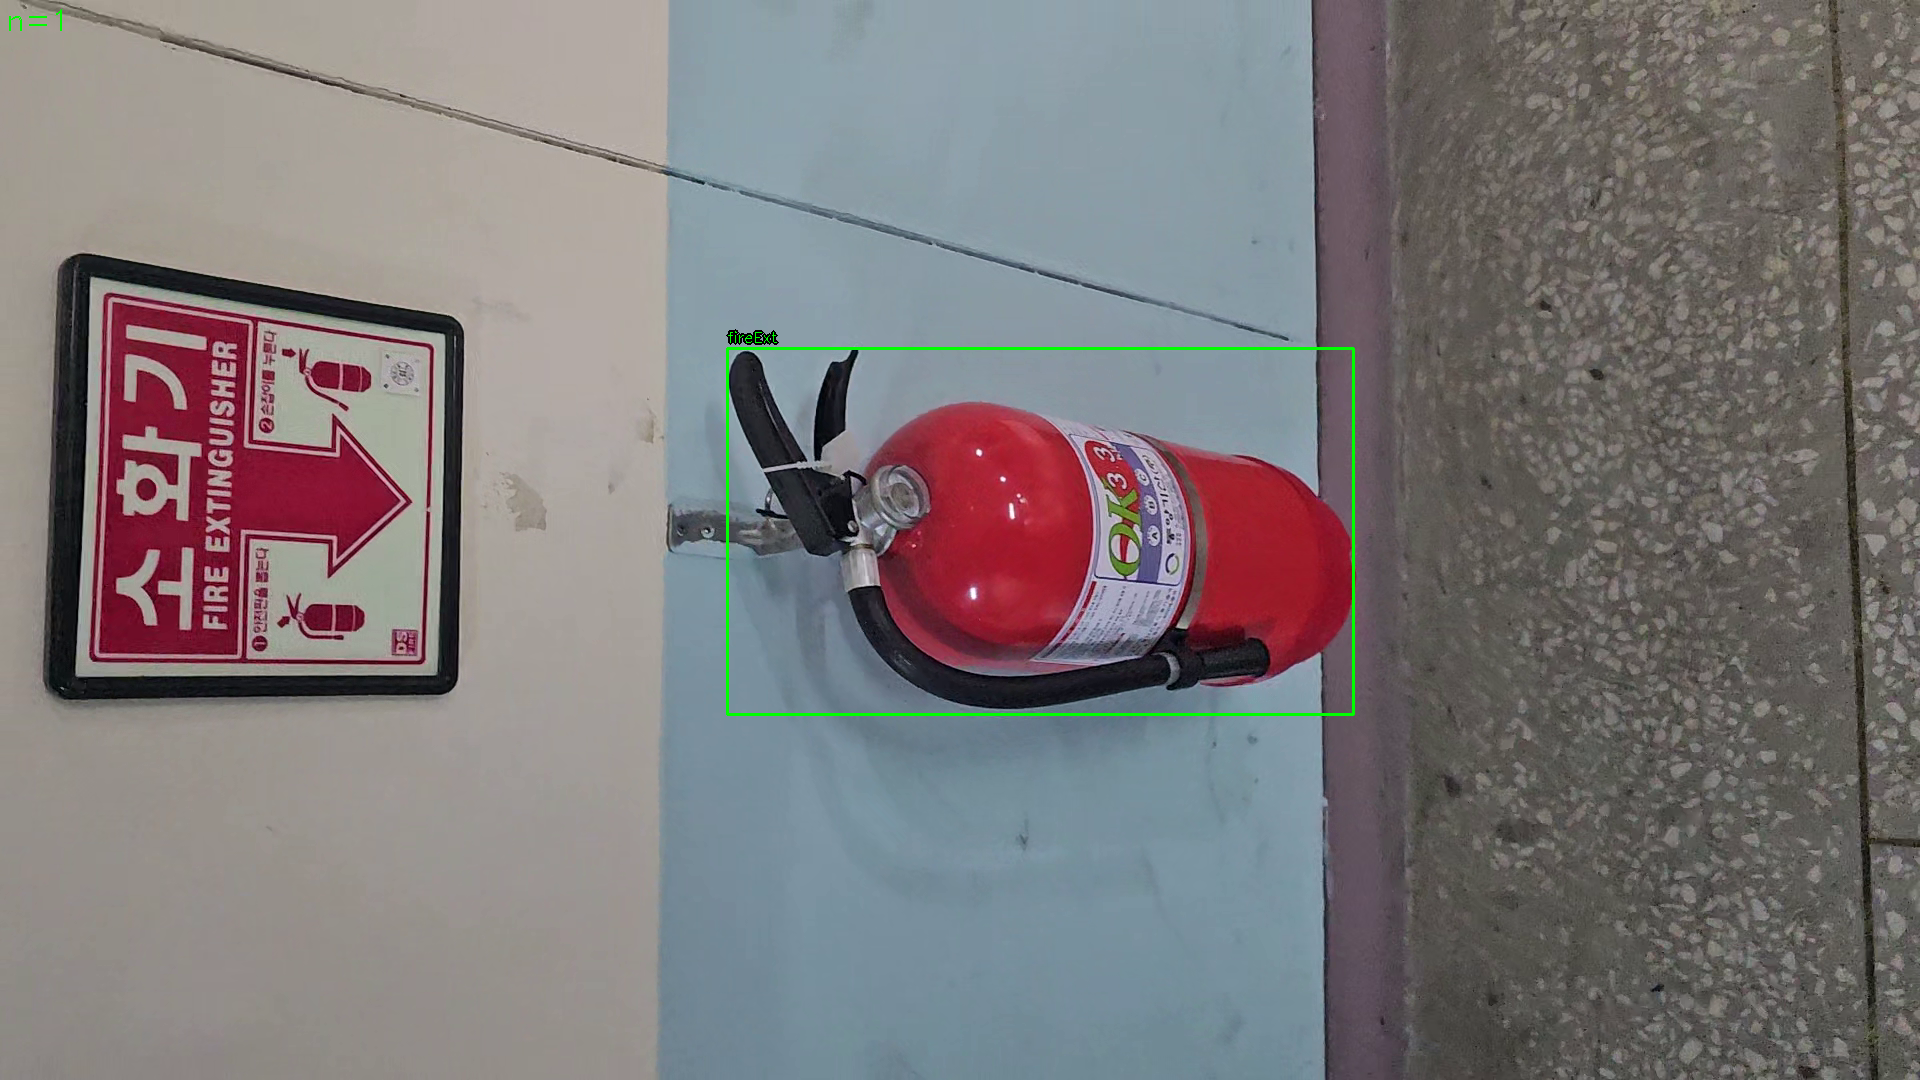lane: (727, 348, 1354, 715)
